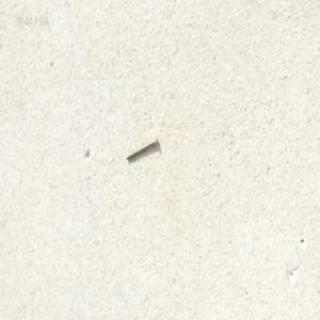Bolttrack_idkeyframe: (125, 135, 157, 160)
